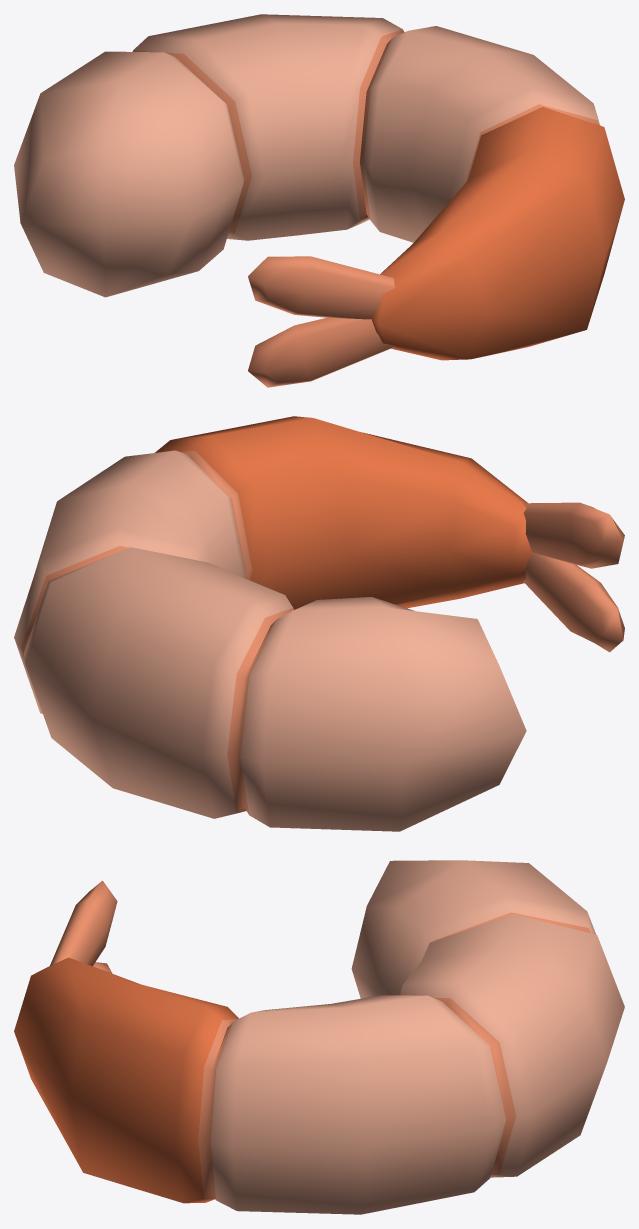
The model's file is Shrimp_1_Peeled_2.fbx.
3 renders of one model, top to bottom at view 1: azimuth 30°, elevation 25°; view 2: azimuth 150°, elevation 25°; view 3: azimuth 270°, elevation 25°, orthographic. The views are drawn at different scales.
Parts seen in each view (by area): view 1: Shrimp_1_Peeled_2; view 2: Shrimp_1_Peeled_2; view 3: Shrimp_1_Peeled_2.
Part boxes in pixels (x1,y1,x2,y2): Shrimp_1_Peeled_2: (14,14,624,387); Shrimp_1_Peeled_2: (14,416,624,831); Shrimp_1_Peeled_2: (14,860,624,1214).
Size of the model in its own units: 10.18 by 3.95 by 10.79.
